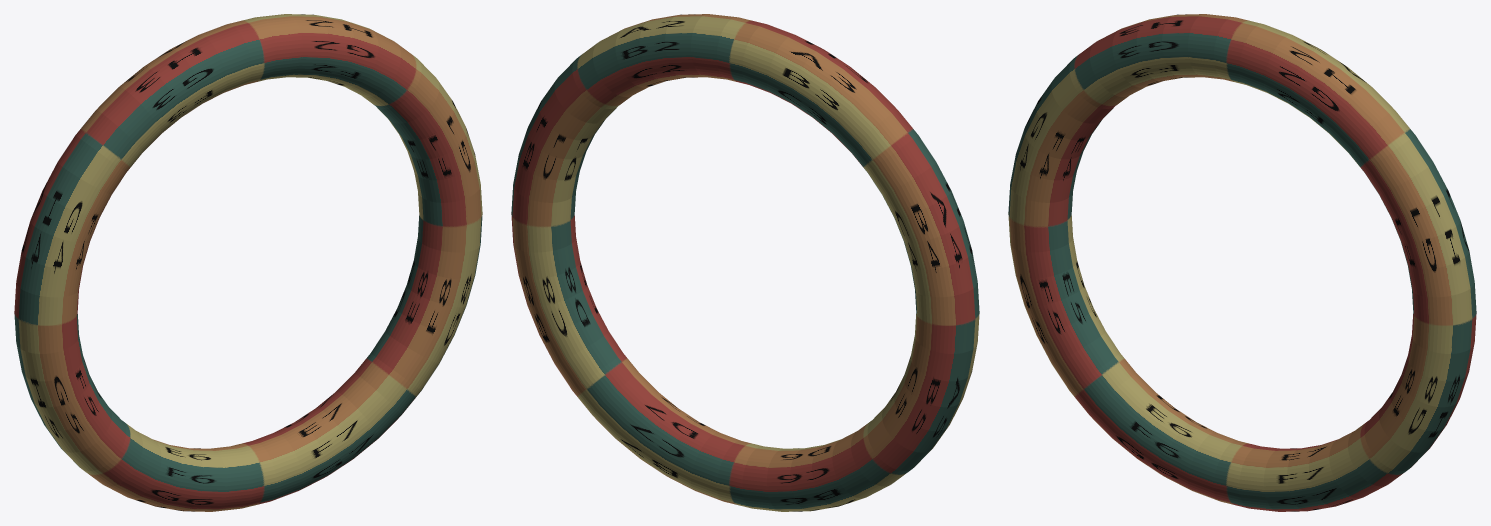
File: texture_torus_R16_r3.glb
The picture shows the model from 3 angles, left to right: view 1: azimuth 30°, elevation 25°; view 2: azimuth 150°, elevation 25°; view 3: azimuth 330°, elevation 25°; orthographic projection.
Parts seen in each view (by area): view 1: world; view 2: world; view 3: world.
Part boxes in pixels (<box>): world: <box>14,14,482,511</box>; world: <box>511,14,979,511</box>; world: <box>1008,14,1476,511</box>.
Bounding box in the file's own units: 23.47 × 23.42 × 2.79.
Materials: 1 (1 with a texture image).
